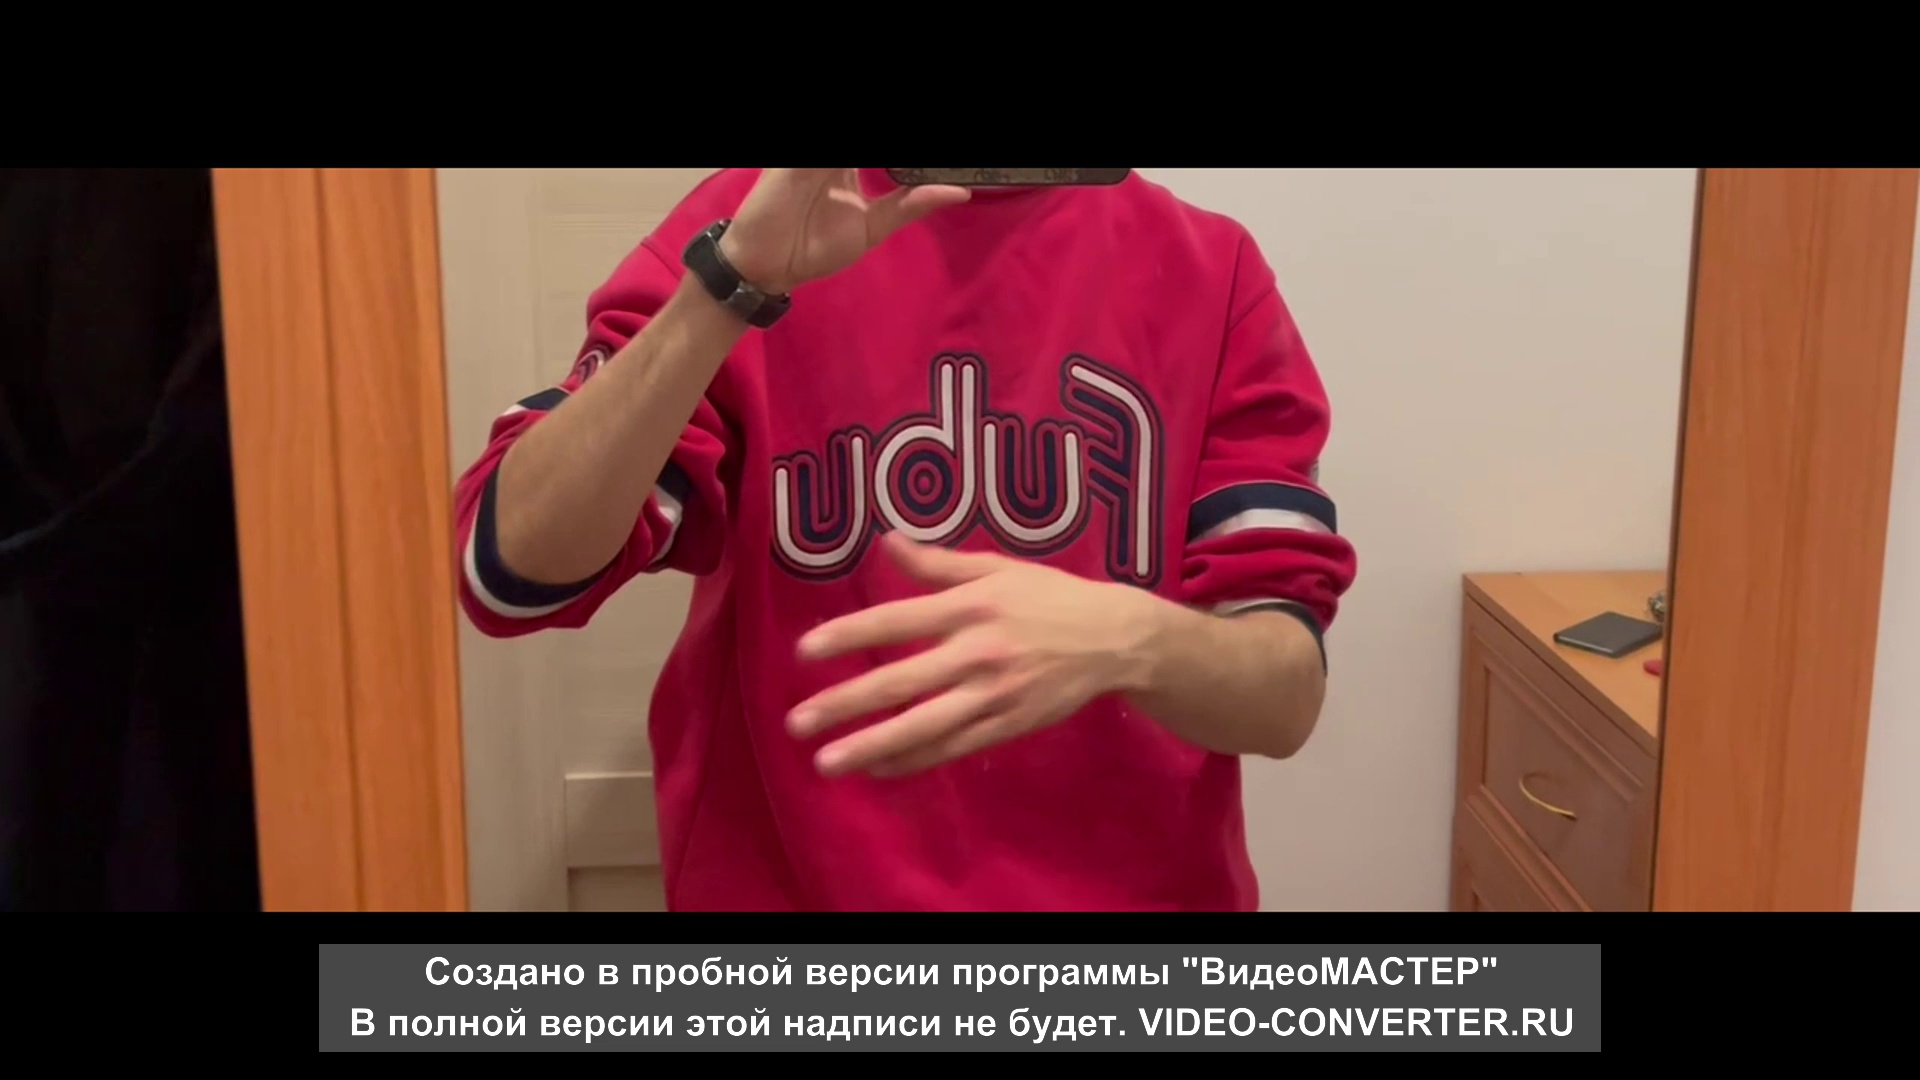Кисть: (777, 529, 1122, 782)
